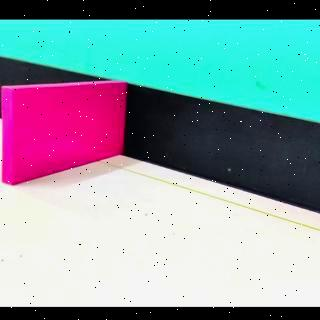xparking: (6, 86, 119, 187)
